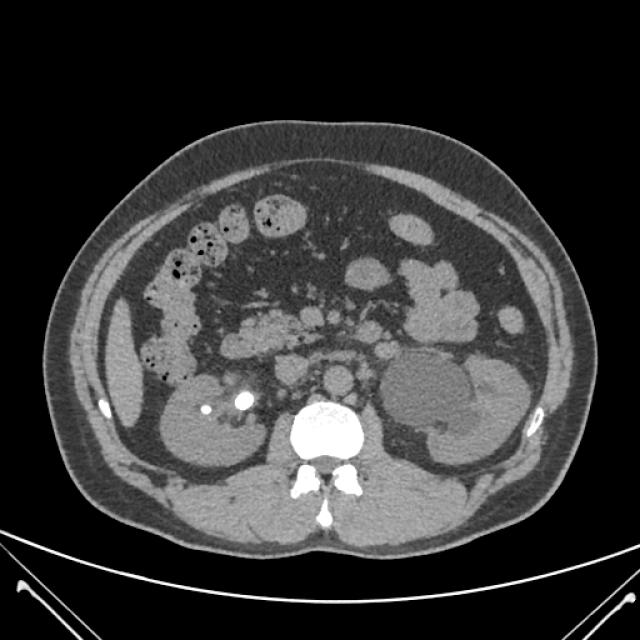kidneystone: (235, 391, 255, 411), (201, 404, 212, 414)
